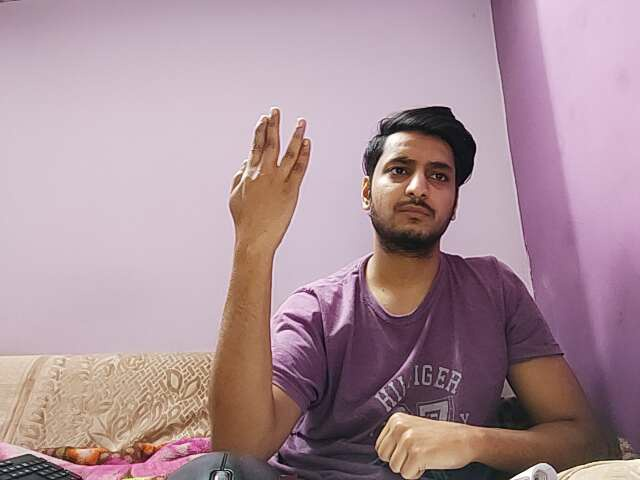LiveLong: (218, 106, 322, 270)
